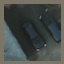car: (20, 19, 46, 52), (40, 11, 60, 42)
